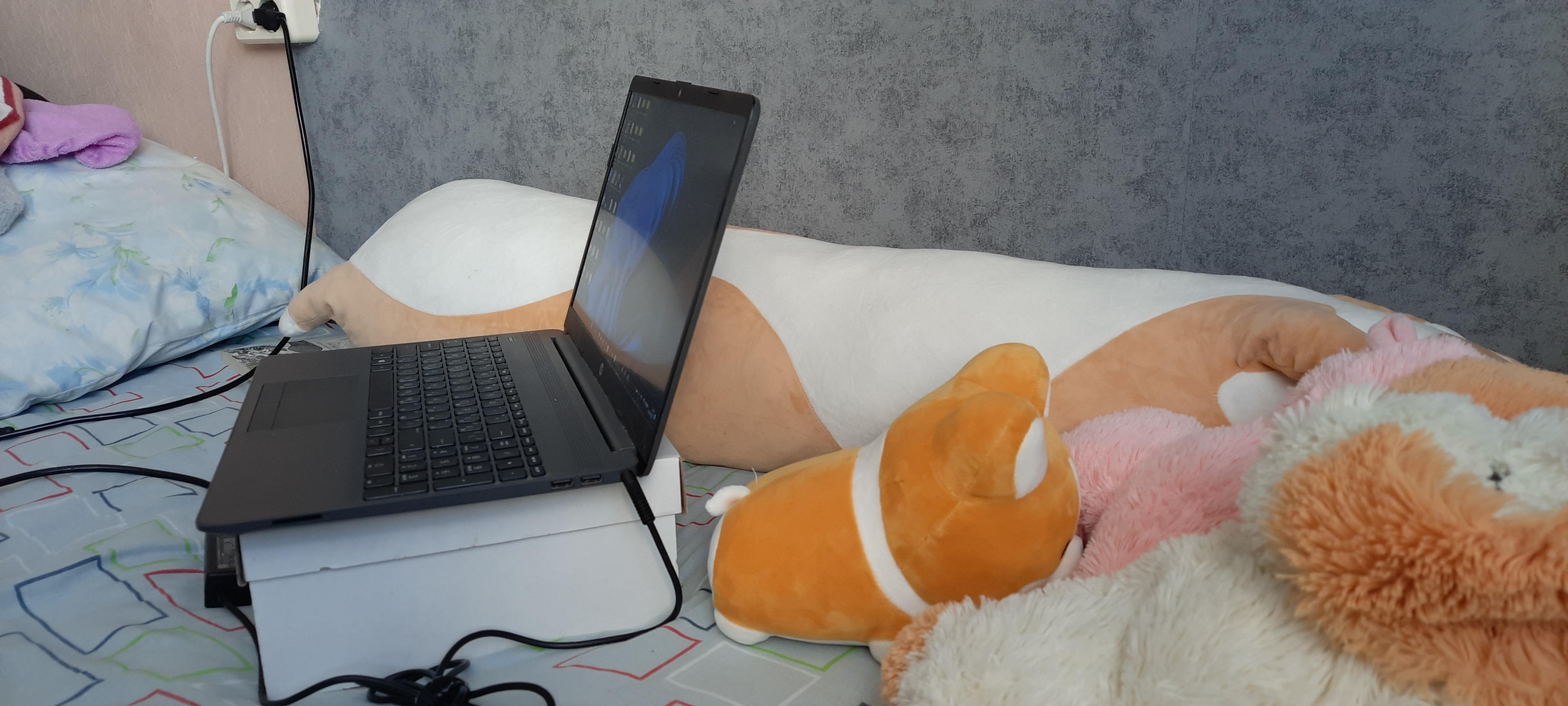monitor: (558, 68, 763, 481)
